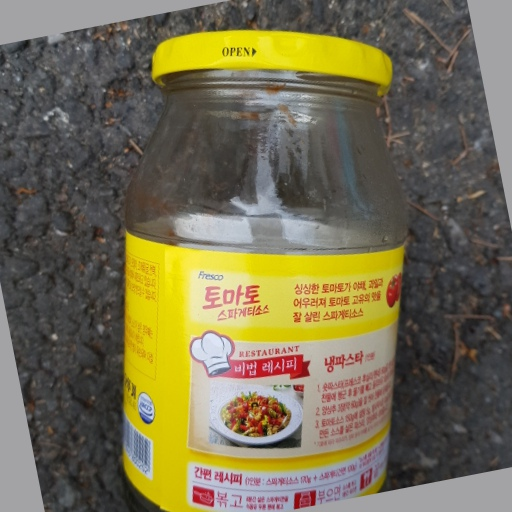Glass_5: (117, 27, 410, 512)
